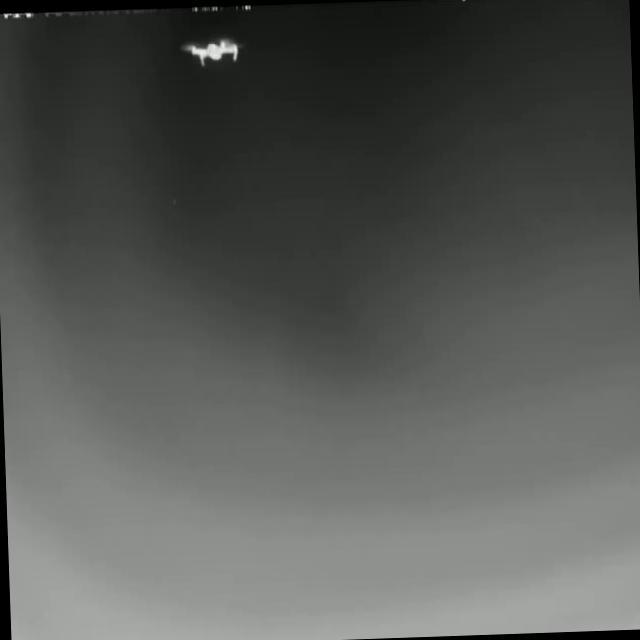DRONE: (178, 35, 247, 68)
